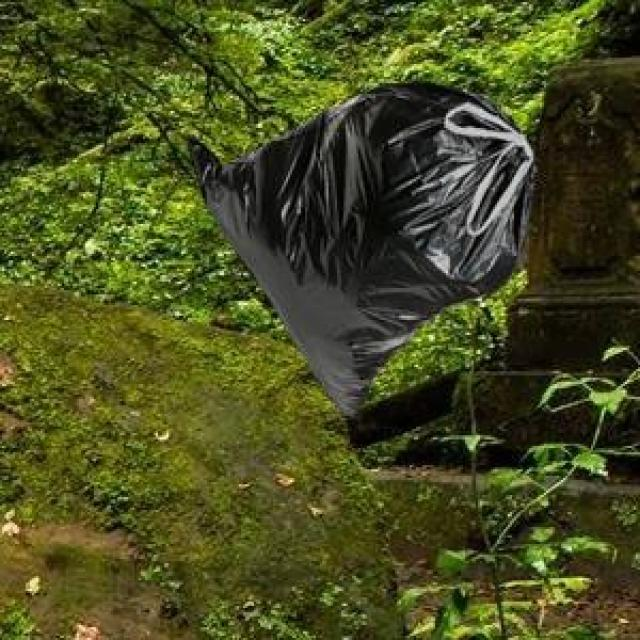Trashbag: (183, 75, 542, 424)
